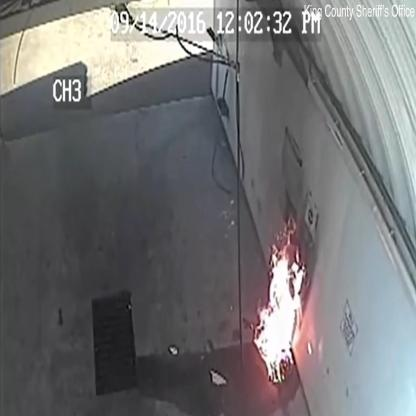fire: (252, 215, 304, 382)
